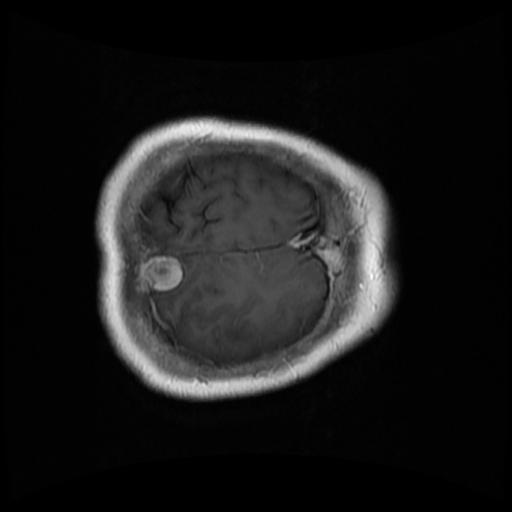glioma: (134, 256, 183, 295)
